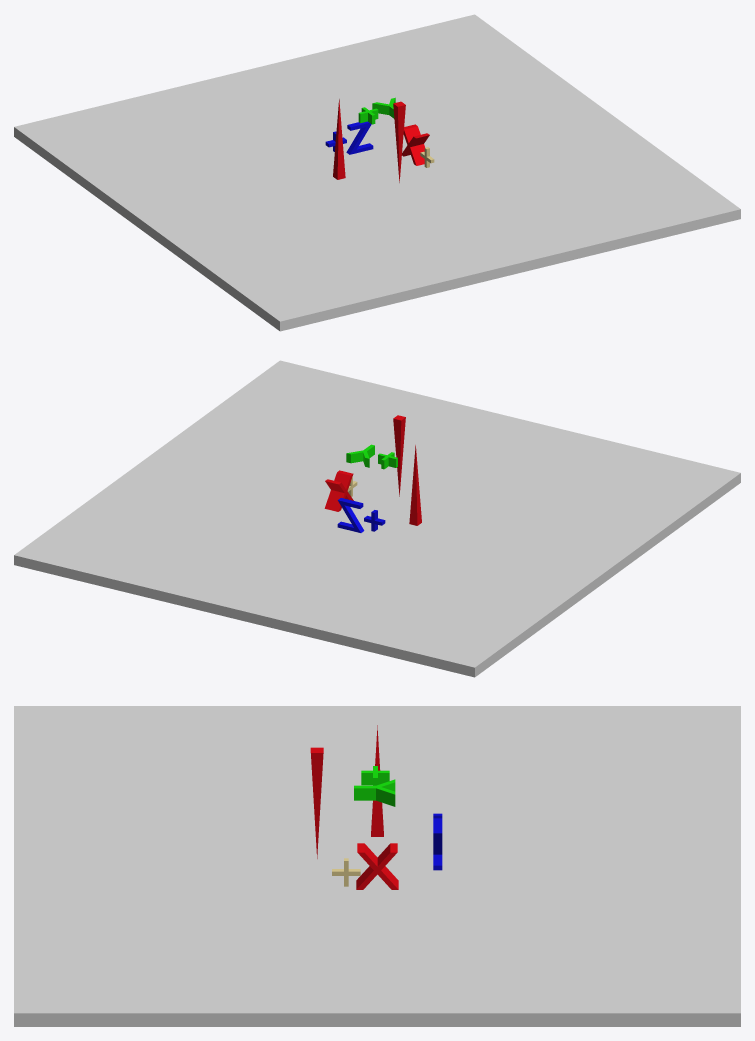
File: shadow_mapping_point.glb
The picture shows the model from 3 angles, top to bottom: view 1: azimuth 30°, elevation 25°; view 2: azimuth 150°, elevation 25°; view 3: azimuth 270°, elevation 25°; orthographic projection. The views are drawn at different scales.
Visible parts, largest first — view 1: Cube, Text, Text.002, Cube.004, Cube.003, Text.003; view 2: Cube, Text.002, Text, Text.003, Cube.003, Cube.004; view 3: Cube, Text, Text.003, Cube.004, Text.002, Cube.003.
Boxes of the visible parts, bbox=[...] form: Cube: bbox=[14, 14, 740, 331]; Text: bbox=[402, 124, 429, 165]; Text.002: bbox=[325, 121, 373, 154]; Cube.004: bbox=[393, 101, 405, 182]; Cube.003: bbox=[333, 99, 345, 179]; Text.003: bbox=[358, 97, 395, 124]; Cube: bbox=[14, 360, 740, 677]; Text.002: bbox=[337, 498, 385, 532]; Text: bbox=[324, 470, 353, 511]; Text.003: bbox=[346, 444, 397, 469]; Cube.003: bbox=[409, 445, 421, 525]; Cube.004: bbox=[393, 415, 405, 496]; Cube: bbox=[14, 706, 740, 1026]; Text: bbox=[356, 843, 398, 889]; Text.003: bbox=[354, 766, 395, 806]; Cube.004: bbox=[310, 747, 323, 858]; Text.002: bbox=[433, 813, 442, 870]; Cube.003: bbox=[371, 725, 383, 836].
Size of the model in its own units: 12.05 by 2.25 by 12.05.
